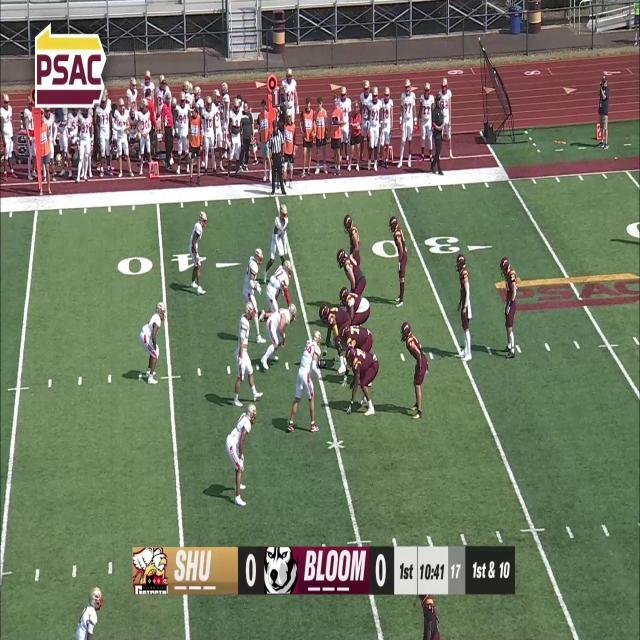football: (317, 359, 327, 369)
